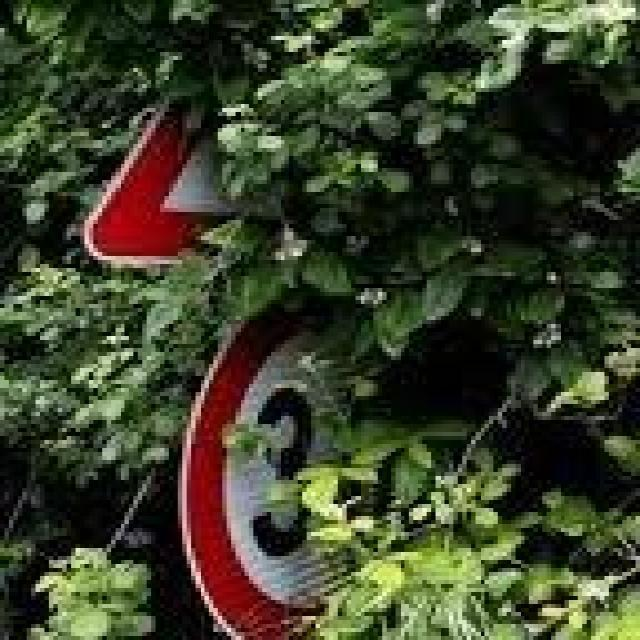obstructed_road_sign: (178, 291, 337, 636), (80, 87, 242, 267)
